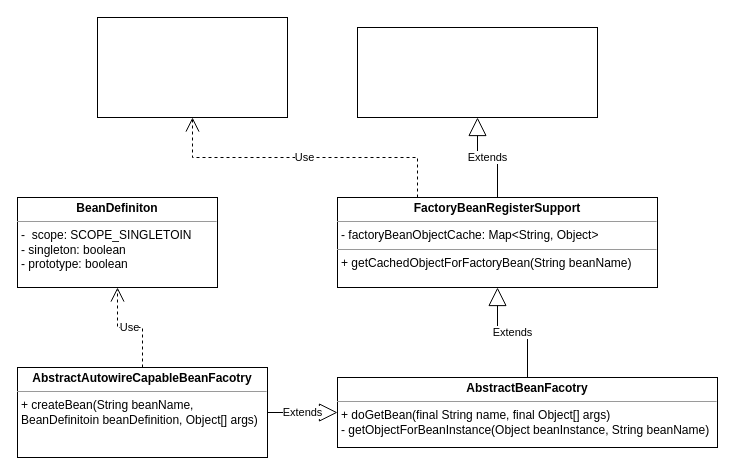
Image size: 735x475. Some labels were removed from this diagram. Here are the shapes that lost their labels. From the top down, the centre of each, then its label:
At pixel 192 67: "<<Interface>> FactoryBean<T> + getObject() + getObjectType() + isSingleton()".
At pixel 477 72: "DefaultSingletonBeanRegistry + NULL_OBJECT: Object + method(): Type".
